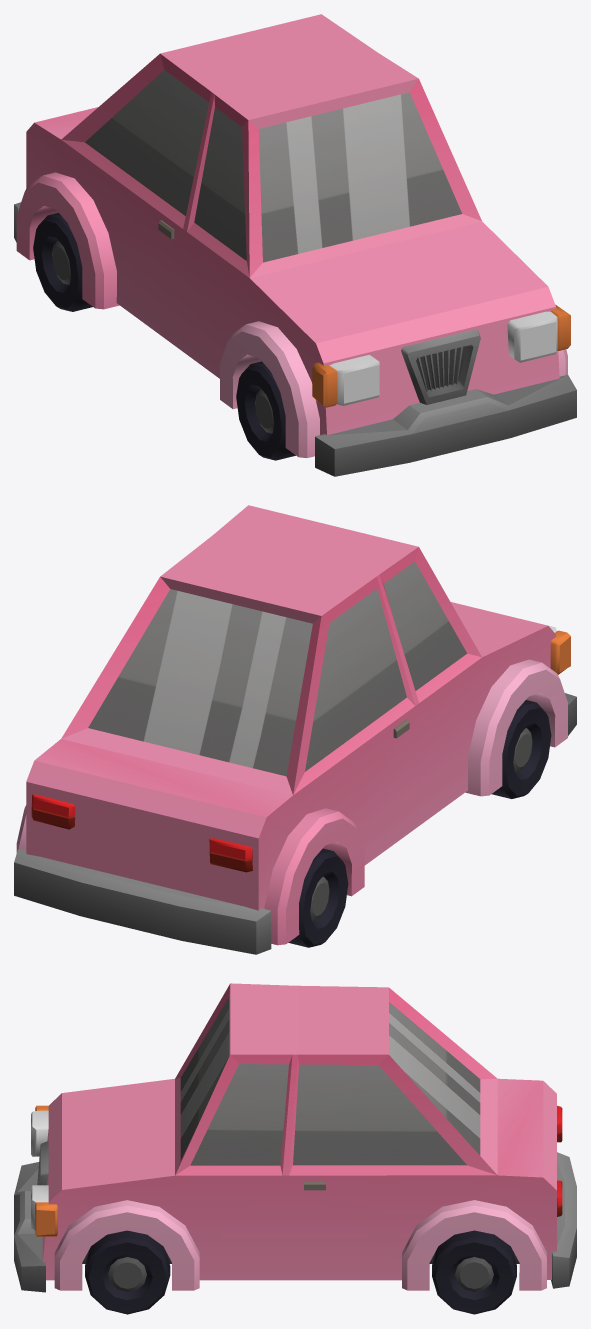
The model's file is Car_4_7.fbx.
3 views of the same model, one above another, from view 1: azimuth 30°, elevation 25°; view 2: azimuth 150°, elevation 25°; view 3: azimuth 270°, elevation 25° (orthographic). The views are drawn at different scales.
Parts seen in each view (by area): view 1: Car_4_7, BWhel_FR, BWhel_BR; view 2: Car_4_7, BWhel_BR, BWhel_FR; view 3: Car_4_7, BWhel_FL, BWhel_BL.
Boxes of the visible parts, <box> form: Car_4_7: <box>14,14,576,476</box>; BWhel_FR: <box>236,361,295,460</box>; BWhel_BR: <box>33,212,92,311</box>; Car_4_7: <box>14,505,576,954</box>; BWhel_BR: <box>288,848,348,947</box>; BWhel_FR: <box>491,700,551,798</box>; Car_4_7: <box>14,983,576,1292</box>; BWhel_FL: <box>85,1230,170,1314</box>; BWhel_BL: <box>432,1230,516,1314</box>.
Bounding box in the file's own units: 109 × 109 × 230.
